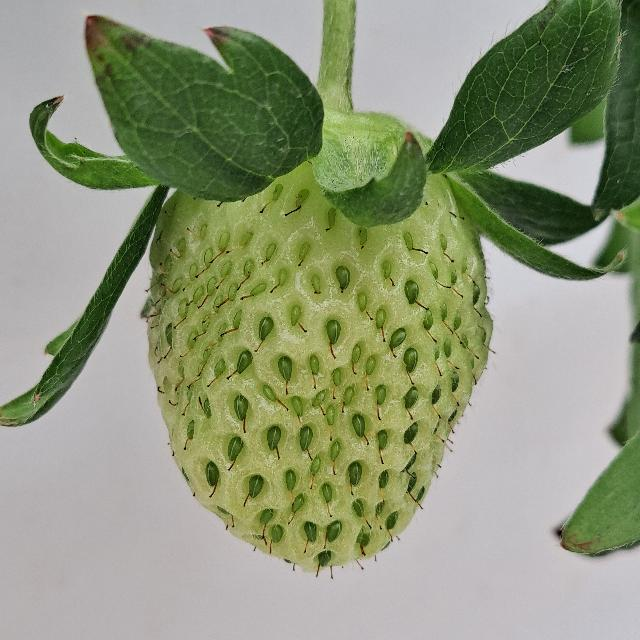Health_25: (147, 160, 493, 572)
